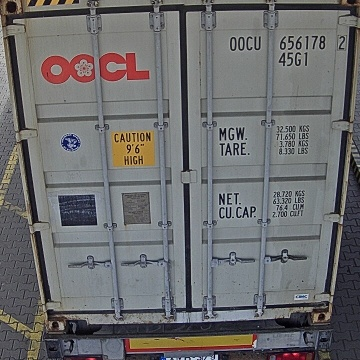serial_id: (230, 34, 347, 50)
